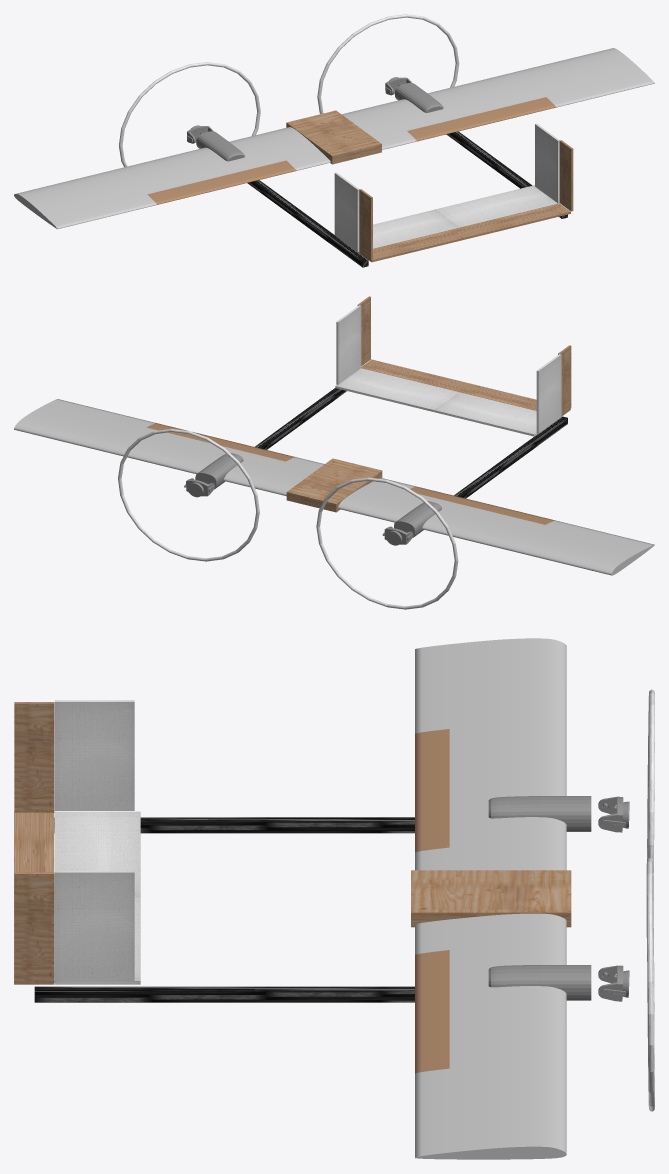
File: wing4.FBX
3 renders of one model, top to bottom at view 1: azimuth 30°, elevation 25°; view 2: azimuth 150°, elevation 25°; view 3: azimuth 270°, elevation 25°, orthographic. The views are drawn at different scales.
Visible parts, largest first — view 1: ~CS_LMW, ~CS_RMW, ~CS_FUSELAGE, ~CS_RMHS, ~CS_RMA, ~CS_LMA, ~CS_LMHS, ~CS_LMVS, ~CS_RMVS, ~CS_BOOML, ~CS_RME, ~CS_LME (+7 smaller); view 2: ~CS_LMW, ~CS_RMW, ~CS_RMHS, ~CS_FUSELAGE, ~CS_LMHS, ~CS_ENGINE1, ~CS_ENGINE2, ~CS_LMVS, ~CS_RMVS, ~CS_BOOML, ~CS_RME, ~CS_LMA (+7 smaller); view 3: ~CS_RMW, ~CS_LMW, ~CS_RMVS, ~CS_LMVS, ~CS_FUSELAGE, ~CS_BOOMR, ~CS_LMHS, ~CS_BOOML, ~CS_RMR, ~CS_LMR, ~CS_RMA, ~CS_LMA (+6 smaller).
Part boxes in pixels (x1,y1,x2,y2): ~CS_LMW: (14, 127, 330, 229); ~CS_RMW: (342, 48, 654, 149); ~CS_FUSELAGE: (286, 110, 381, 164); ~CS_RMHS: (435, 185, 558, 227); ~CS_RMA: (407, 97, 556, 141); ~CS_LMA: (147, 160, 296, 204); ~CS_LMHS: (358, 209, 459, 253); ~CS_LMVS: (334, 172, 359, 252); ~CS_RMVS: (535, 123, 559, 203); ~CS_BOOML: (247, 180, 368, 267); ~CS_RME: (460, 203, 570, 237); ~CS_LME: (360, 227, 471, 262); ~CS_LMW: (338, 478, 654, 575); ~CS_RMW: (14, 399, 324, 496); ~CS_RMHS: (335, 368, 458, 412); ~CS_FUSELAGE: (286, 458, 382, 512); ~CS_LMHS: (435, 392, 537, 436); ~CS_ENGINE1: (316, 477, 458, 609); ~CS_ENGINE2: (118, 429, 259, 561); ~CS_LMVS: (536, 354, 561, 433); ~CS_RMVS: (336, 305, 361, 384); ~CS_BOOML: (454, 416, 567, 498); ~CS_RME: (361, 359, 470, 391); ~CS_LMA: (410, 486, 554, 524); ~CS_RMW: (415, 913, 566, 1159); ~CS_LMW: (415, 638, 566, 870); ~CS_RMVS: (54, 871, 134, 981); ~CS_LMVS: (54, 700, 134, 810); ~CS_FUSELAGE: (411, 870, 571, 927); ~CS_BOOMR: (34, 986, 414, 1002); ~CS_LMHS: (54, 811, 140, 896); ~CS_BOOML: (54, 817, 414, 833); ~CS_RMR: (14, 872, 54, 982); ~CS_LMR: (14, 702, 54, 812); ~CS_RMA: (415, 950, 449, 1073); ~CS_LMA: (415, 729, 449, 852).
Bounding box in the file's own units: 120 × 24.68 × 63.96.
Materials: 5 (3 with a texture image).
